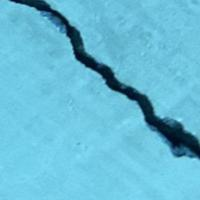crack: (10, 1, 199, 157)
